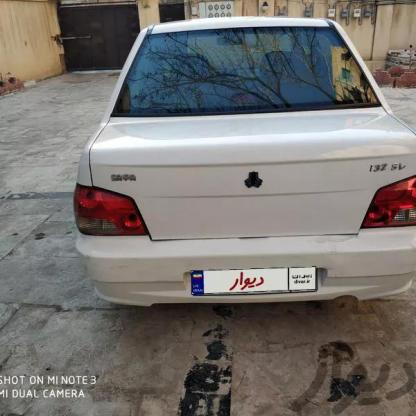Car: (65, 4, 416, 344)
